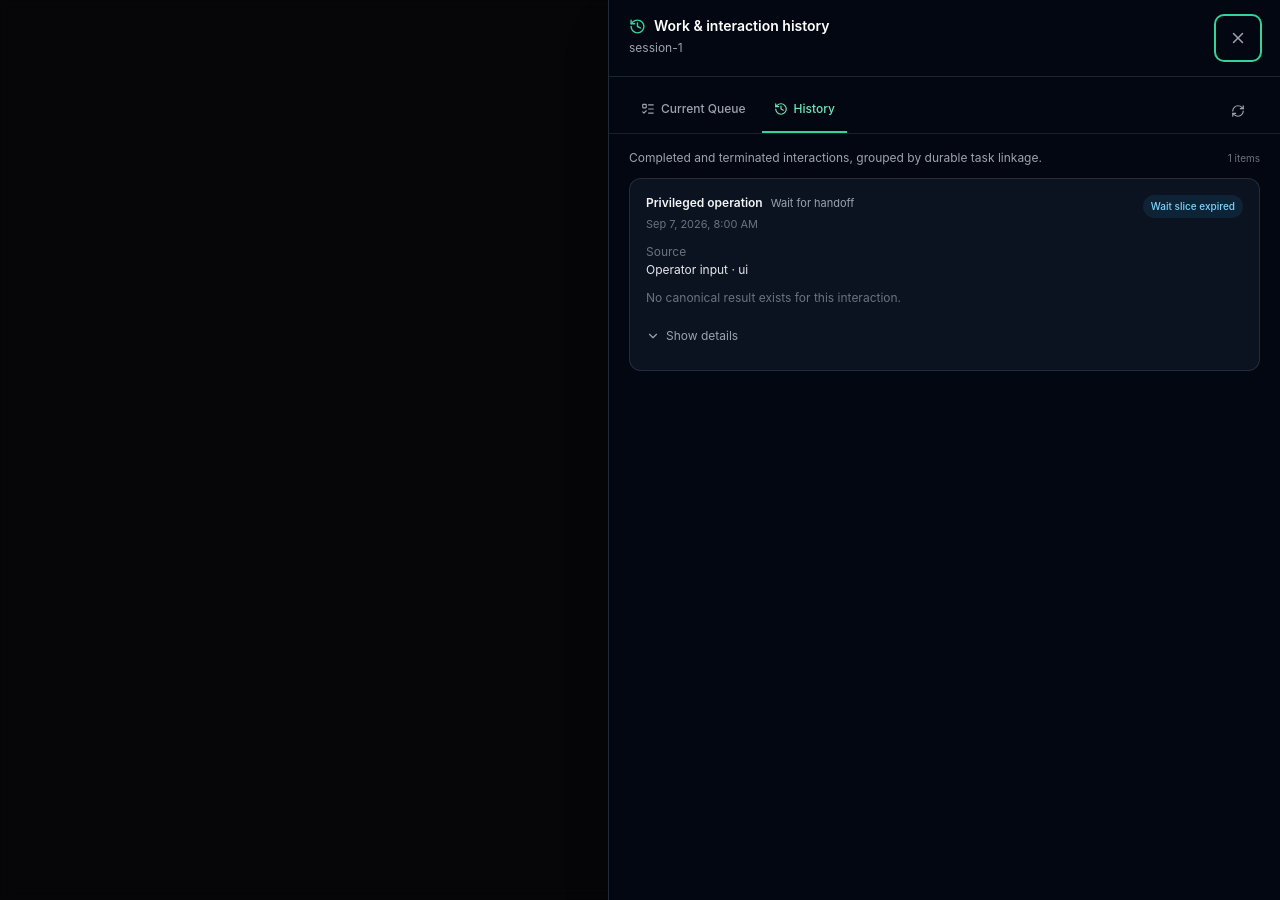
InteractionHistoryDrawer › renders a bounded handoff timeout as a known History disposition
Check: the text "Wait slice expired" is shown, box [1143,195,1243,218]
Check: the text "Wait for handoff" is shown, box [771,195,854,212]
Click the button "Show details" at [692, 336], box [646,318,738,354]
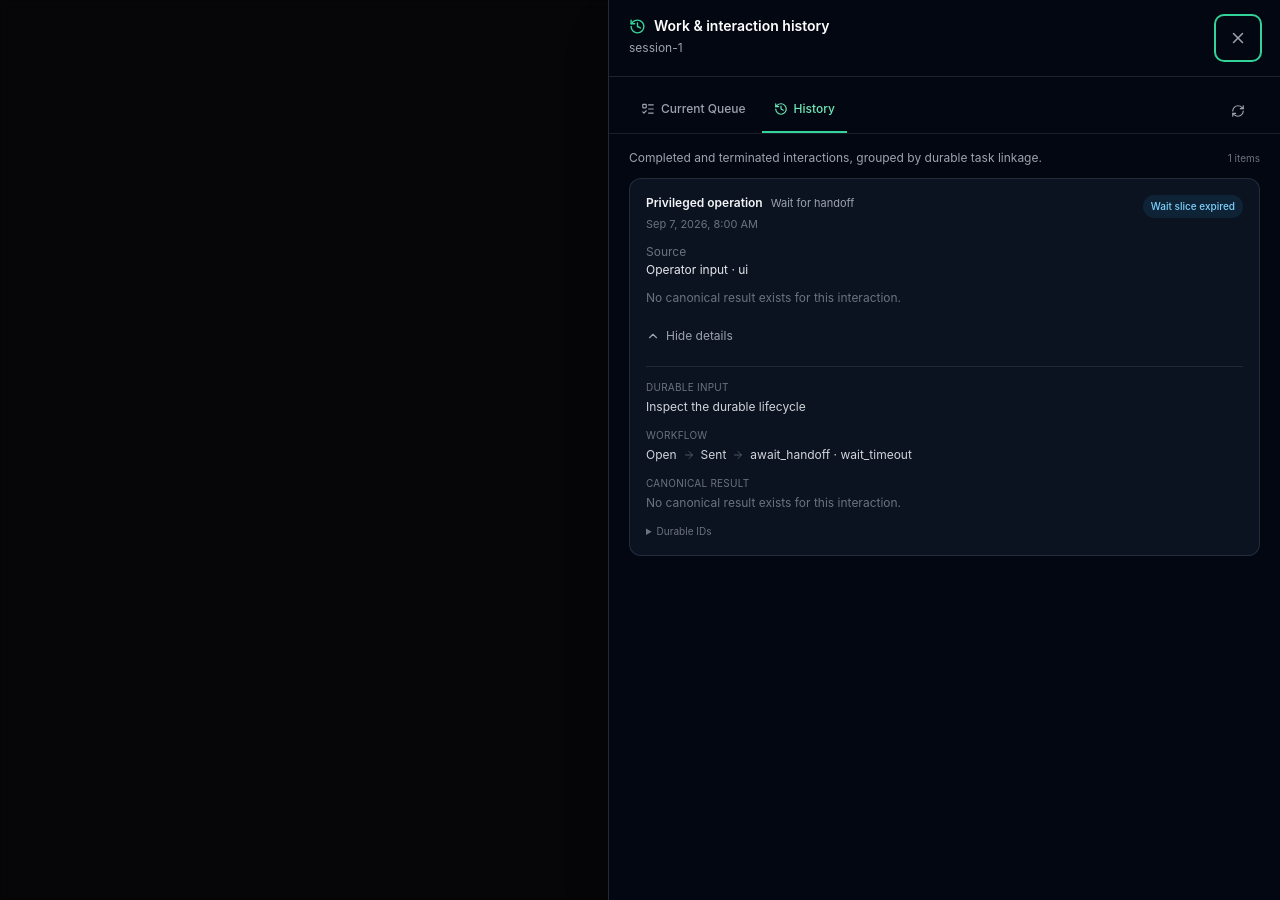
Check: the text "No canonical result exists for this interaction." is shown 2 times, box [646,290,901,305]; [646,495,901,510]
Check: the text "await_handoff · wait_timeout" is shown, box [750,447,912,463]
